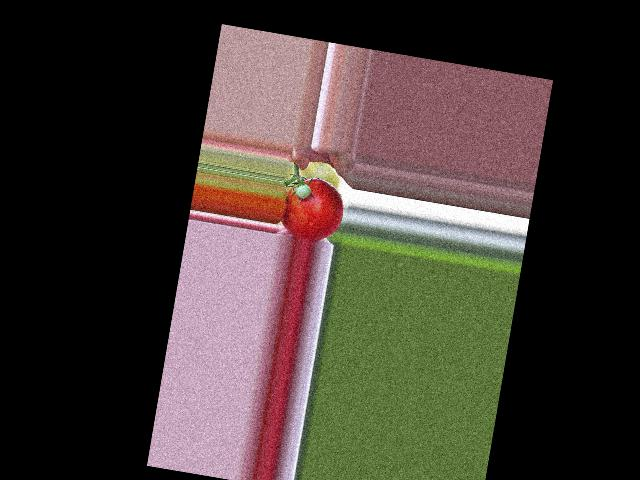tomato: (278, 173, 347, 245)
